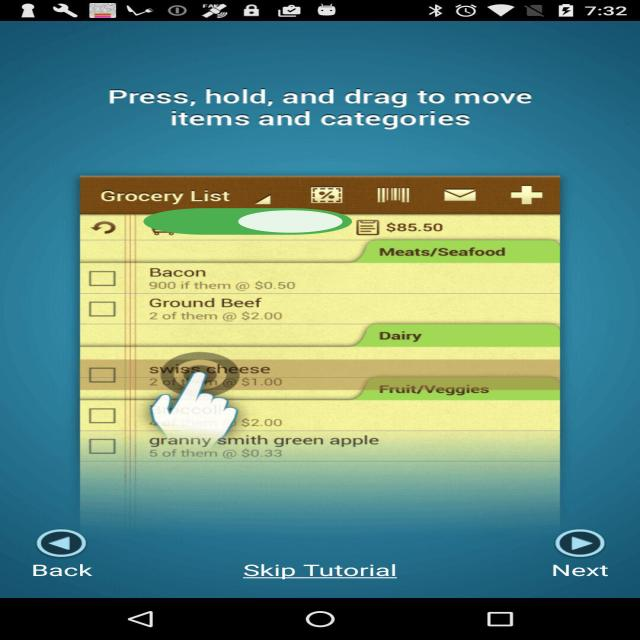social proof: (134, 198, 361, 247)
